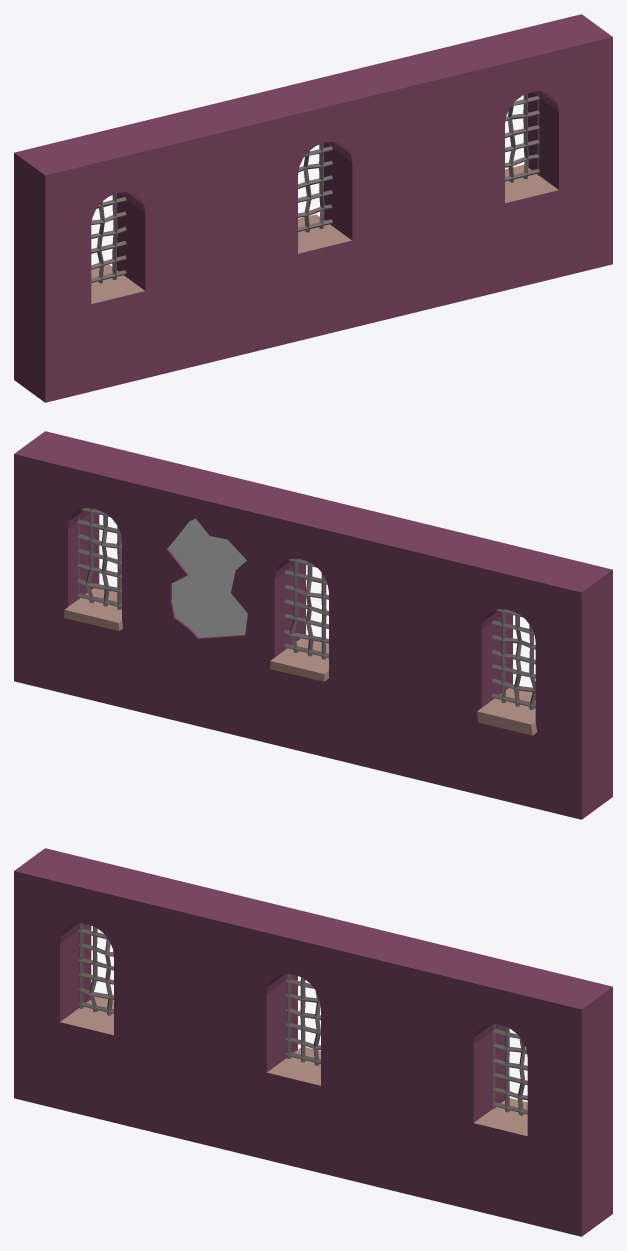
The model's file is WallLeft (1).fbx.
The picture shows the model from 3 angles, top to bottom: view 1: azimuth 30°, elevation 25°; view 2: azimuth 150°, elevation 25°; view 3: azimuth 330°, elevation 25°; orthographic projection.
Visible parts, largest first — view 1: Cube; view 2: Cube; view 3: Cube.
Boxes of the visible parts, x1,y1,x2,y2 form: Cube: [14, 14, 612, 402]; Cube: [14, 431, 612, 819]; Cube: [14, 848, 612, 1236].
Size of the model in its own units: 1049 by 401 by 115.
